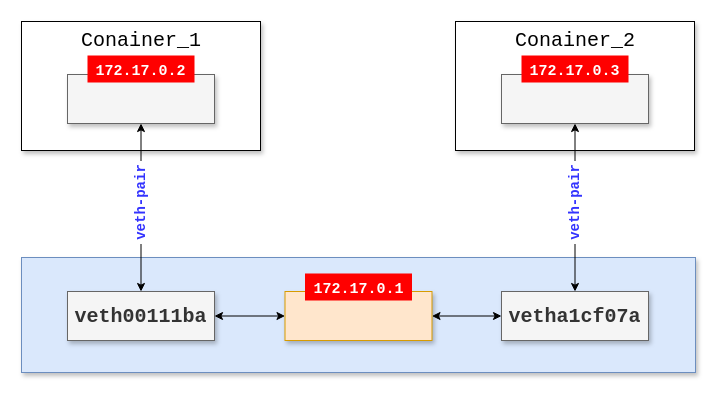
This 719x397 diagram has some shape labels left out. Here are the shapes that lost their labels. From the top down, the centre of each, then its label:
At [141,100]: "eth0@if153".
At [575,100]: "eth0@if155".
At [359,317]: "Docker 0".
